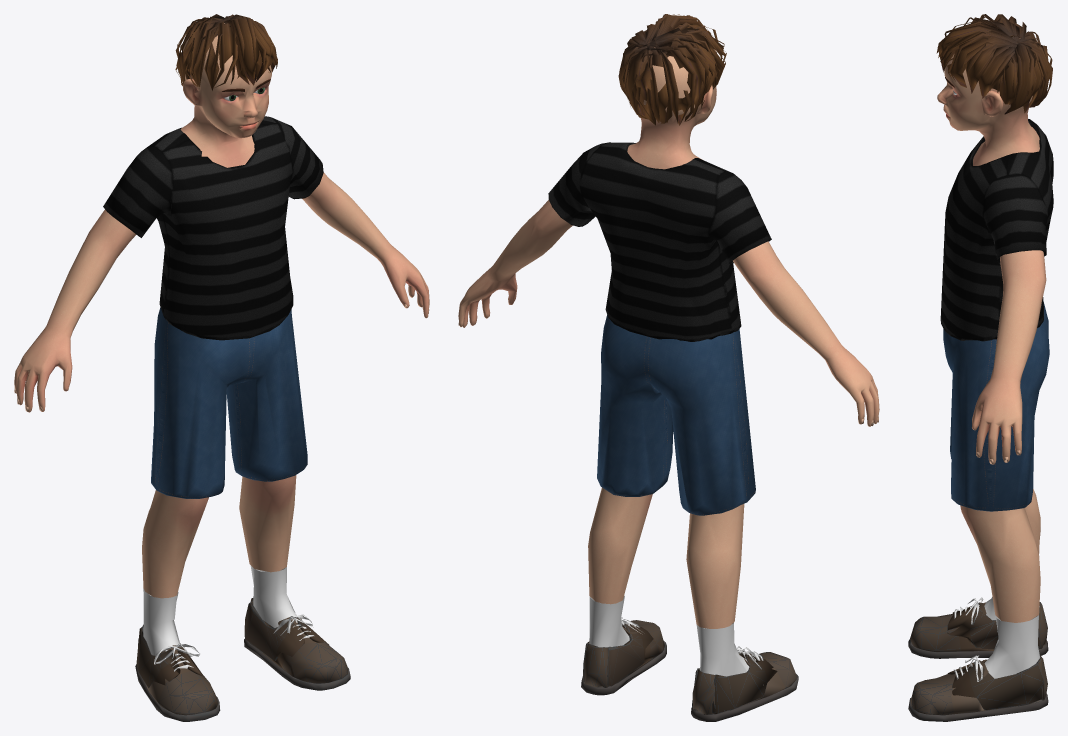
File: child.glb
3 renders of one model, left to right at view 1: azimuth 30°, elevation 25°; view 2: azimuth 150°, elevation 25°; view 3: azimuth 270°, elevation 25°, orthographic.
Visible parts, largest first — view 1: TShirt_Cube.018, Shorts_Cube.017, Legs_Cube.004, Shoes_Cube.019, ArmR_Cube.002, MaleBase_Cube.005, ArmL_Cube.003, Hair1_NurbsPath.002, Hair2_NurbsPath.001, Laces_BezierCurve.001; view 2: TShirt_Cube.018, Shorts_Cube.017, Legs_Cube.004, Shoes_Cube.019, ArmR_Cube.002, Hair1_NurbsPath.002, ArmL_Cube.003, MaleBase_Cube.005, Hair3_NurbsPath.003; view 3: TShirt_Cube.018, Shorts_Cube.017, Shoes_Cube.019, Legs_Cube.004, ArmL_Cube.003, Hair3_NurbsPath.003, MaleBase_Cube.005, Hair2_NurbsPath.001, Hair1_NurbsPath.002, Laces_BezierCurve.001.
Part boxes in pixels (x1,y1,x2,y2): TShirt_Cube.018: [103, 116, 323, 340]; Shorts_Cube.017: [151, 307, 307, 498]; Legs_Cube.004: [142, 475, 297, 655]; Shoes_Cube.019: [135, 598, 350, 721]; ArmR_Cube.002: [14, 209, 136, 412]; MaleBase_Cube.005: [180, 23, 271, 167]; ArmL_Cube.003: [302, 172, 429, 318]; Hair1_NurbsPath.002: [175, 14, 272, 90]; Hair2_NurbsPath.001: [224, 14, 273, 85]; Laces_BezierCurve.001: [154, 614, 313, 671]; TShirt_Cube.018: [548, 142, 771, 341]; Shorts_Cube.017: [597, 315, 755, 515]; Legs_Cube.004: [588, 487, 749, 676]; Shoes_Cube.019: [581, 620, 798, 721]; ArmR_Cube.002: [458, 241, 879, 426]; Hair1_NurbsPath.002: [630, 19, 726, 125]; ArmL_Cube.003: [458, 200, 572, 327]; MaleBase_Cube.005: [627, 47, 716, 169]; Hair3_NurbsPath.003: [618, 19, 678, 123]; TShirt_Cube.018: [940, 119, 1053, 341]; Shorts_Cube.017: [943, 302, 1049, 511]; Shoes_Cube.019: [908, 602, 1048, 721]; Legs_Cube.004: [960, 489, 1040, 678]; ArmL_Cube.003: [972, 250, 1046, 464]; Hair3_NurbsPath.003: [948, 30, 1050, 114]; MaleBase_Cube.005: [937, 38, 1039, 165]; Hair2_NurbsPath.001: [936, 20, 1016, 72]; Hair1_NurbsPath.002: [944, 14, 1052, 105]; Laces_BezierCurve.001: [954, 597, 983, 681].
Bounding box in the file's own units: 0.7769 × 1.2 × 0.2405.
13 materials, 7 textured.
